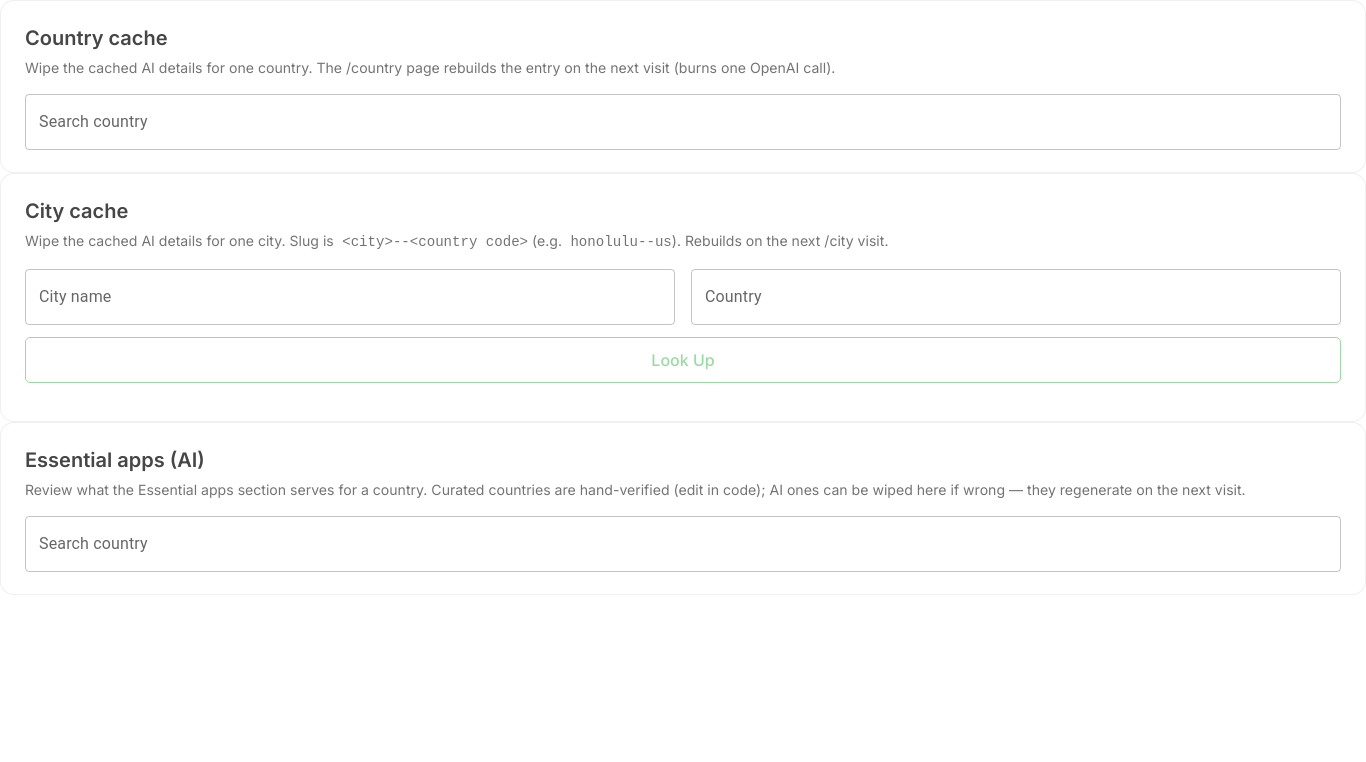
Test: CacheCard — country section › routes a clear failure to the toast
This screenshot has width=1366, height=762.
Type "Japan" into the field with placeholder "Type a country name…" below "Country cache".
click(683, 122); type("Japan")  # box [25, 94, 1341, 150]
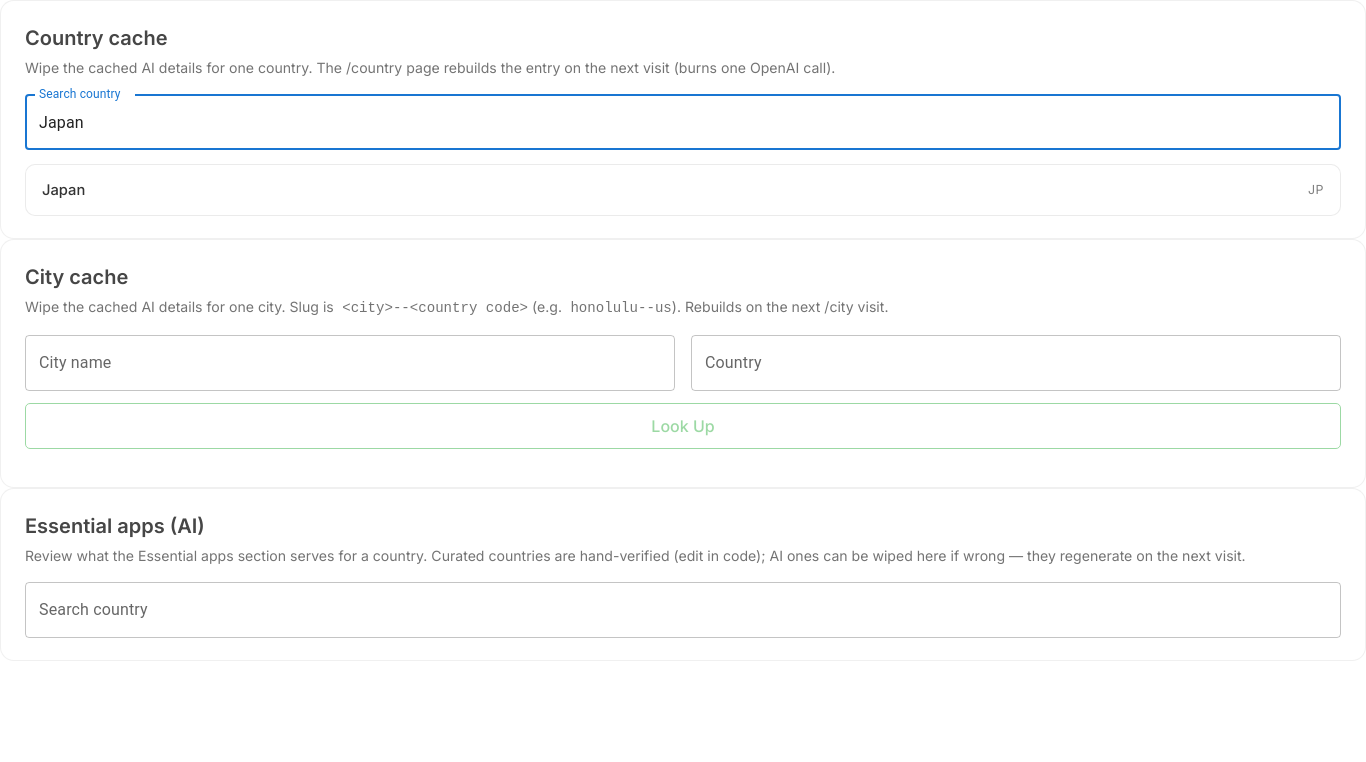
Click the button "Japan JP".
click(64, 190)  # box [32, 171, 1334, 209]
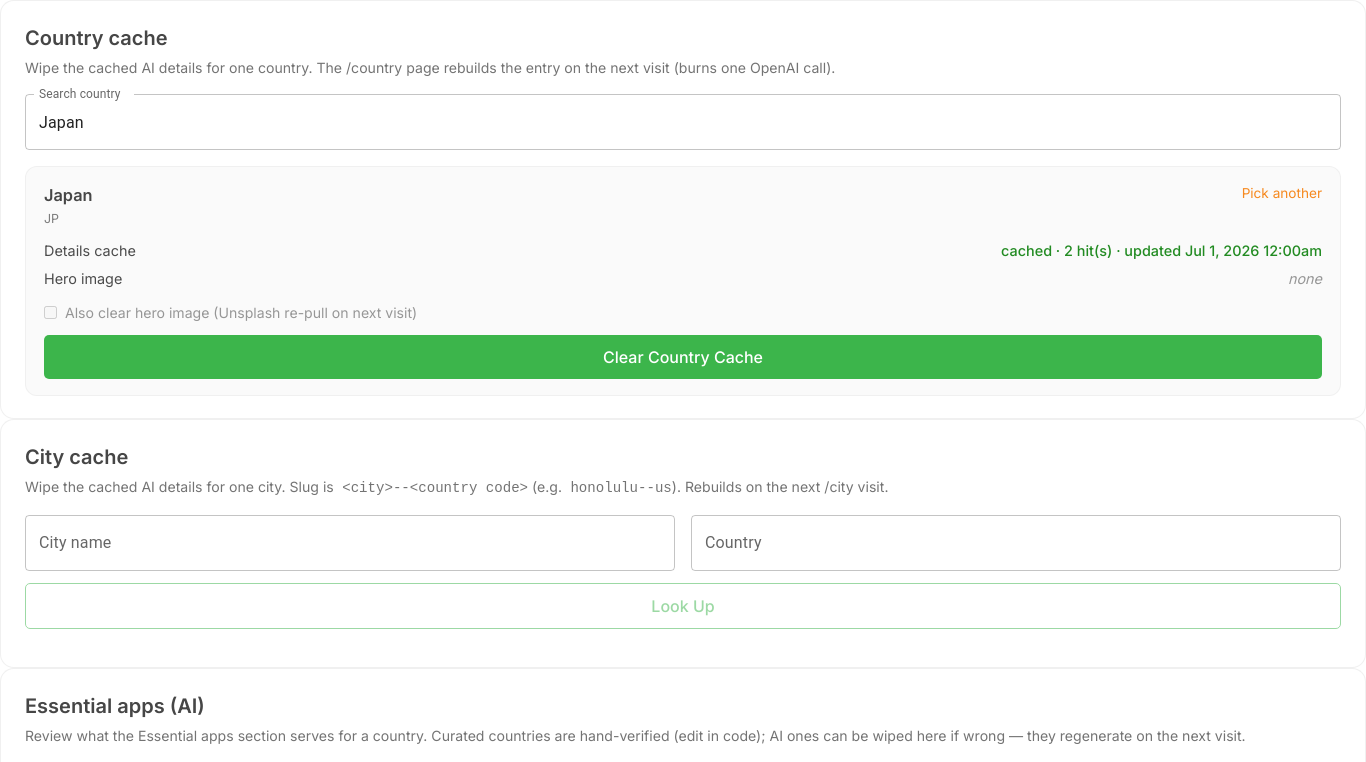
Click the button "Clear country cache".
click(683, 357)  # box [44, 335, 1322, 379]
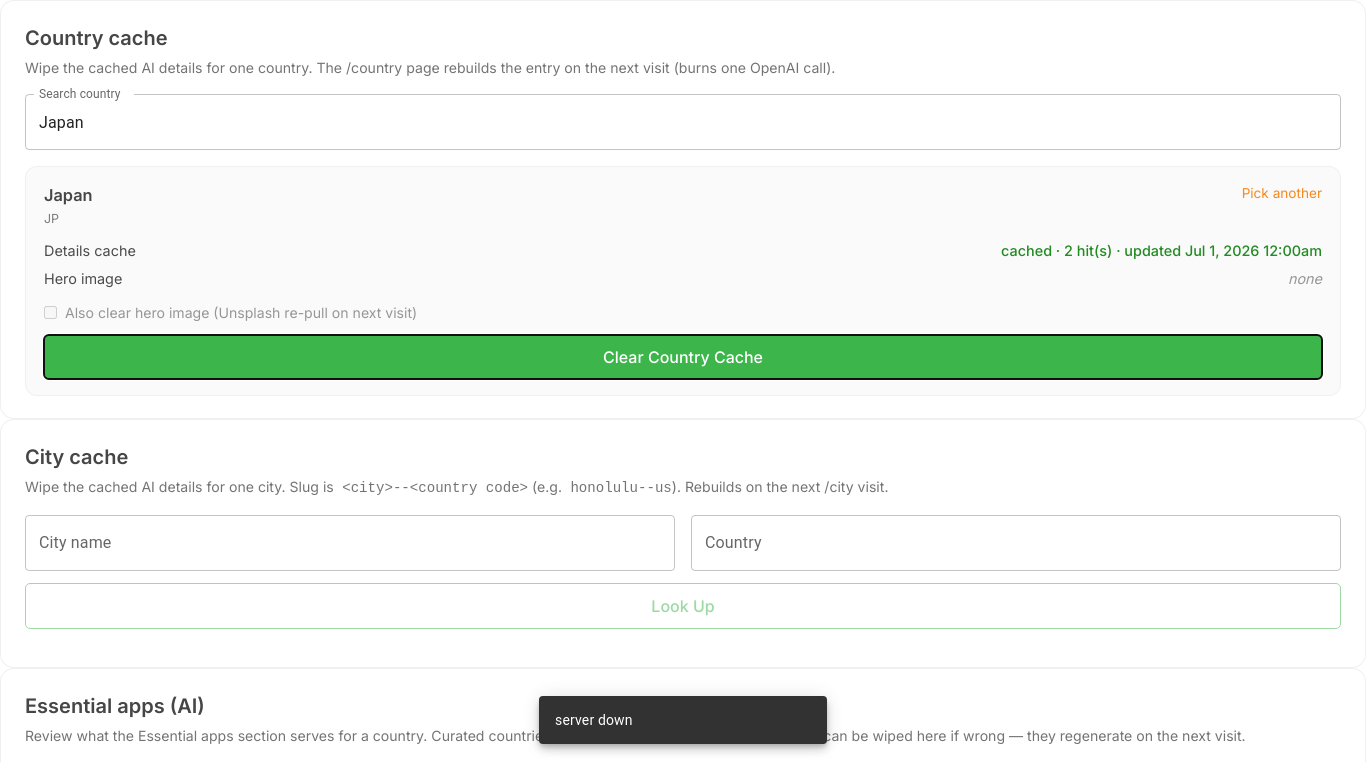
Expected: the text "server down" is shown, [555, 712, 633, 728]
